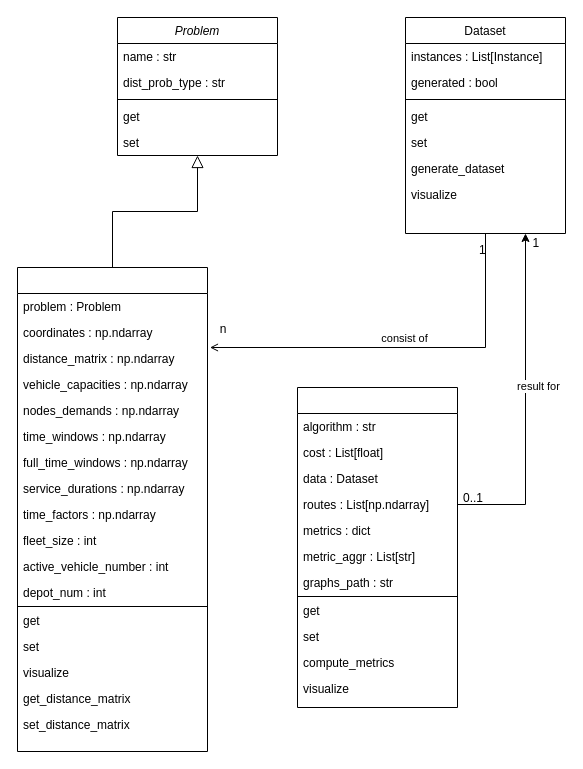
Image size: 583x769. Some labels were removed from this diagram. The box of each missing label's shape, as (x1, y1, x2, y2) in pixels:
Instance: (16, 266, 208, 752)
Solution: (296, 386, 458, 708)
